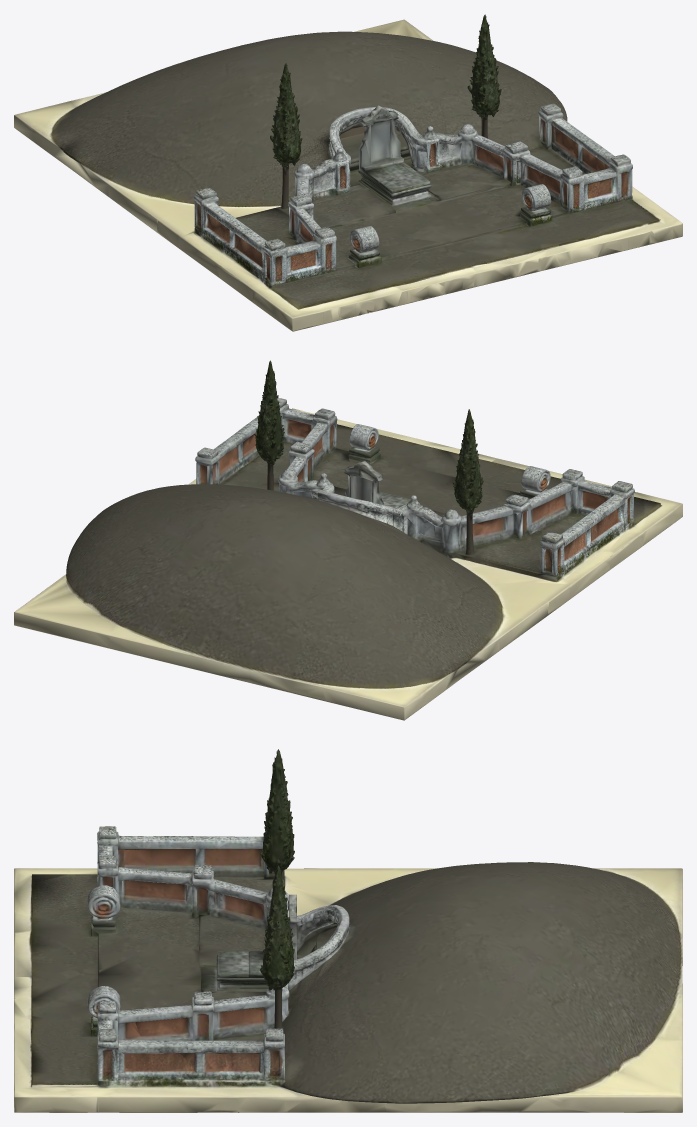
The model's file is bogong.glb.
3 views of the same model, one above another, from view 1: azimuth 30°, elevation 25°; view 2: azimuth 150°, elevation 25°; view 3: azimuth 270°, elevation 25° (orthographic). The views are drawn at different scales.
Parts seen in each view (by area): view 1: tripo_node_ee3fe492-7896-4ffb-9dac-e30e3995208e; view 2: tripo_node_ee3fe492-7896-4ffb-9dac-e30e3995208e; view 3: tripo_node_ee3fe492-7896-4ffb-9dac-e30e3995208e.
Boxes of the visible parts, x1=… form: tripo_node_ee3fe492-7896-4ffb-9dac-e30e3995208e: x1=14, y1=14, x2=682, y2=331; tripo_node_ee3fe492-7896-4ffb-9dac-e30e3995208e: x1=14, y1=360, x2=682, y2=720; tripo_node_ee3fe492-7896-4ffb-9dac-e30e3995208e: x1=14, y1=749, x2=682, y2=1112.
Bounding box in the file's own units: 0.3659 × 0.1358 × 0.42.
1 material, 1 textured.
